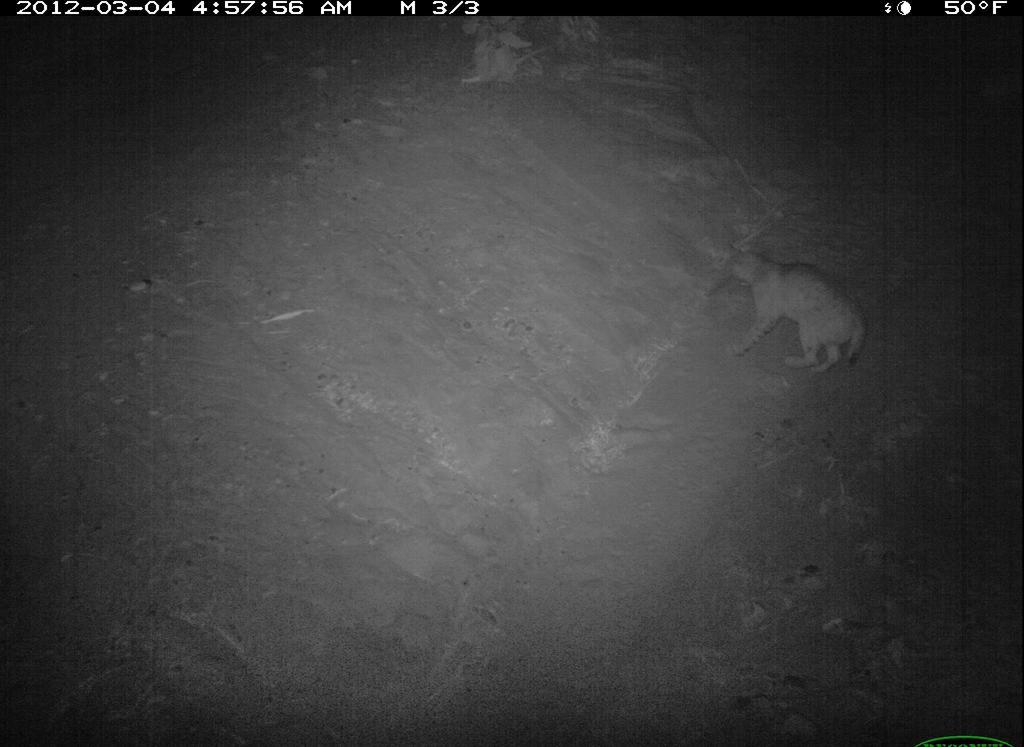bobcat: (716, 236, 870, 386)
